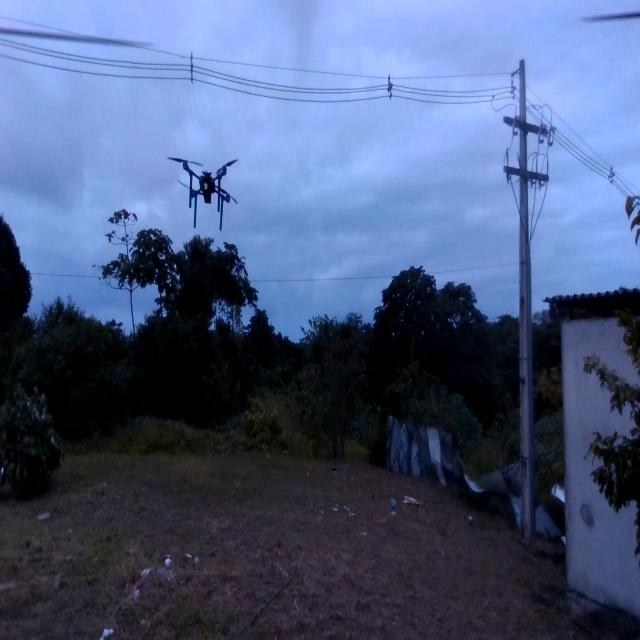-uav-: (165, 142, 246, 239)
